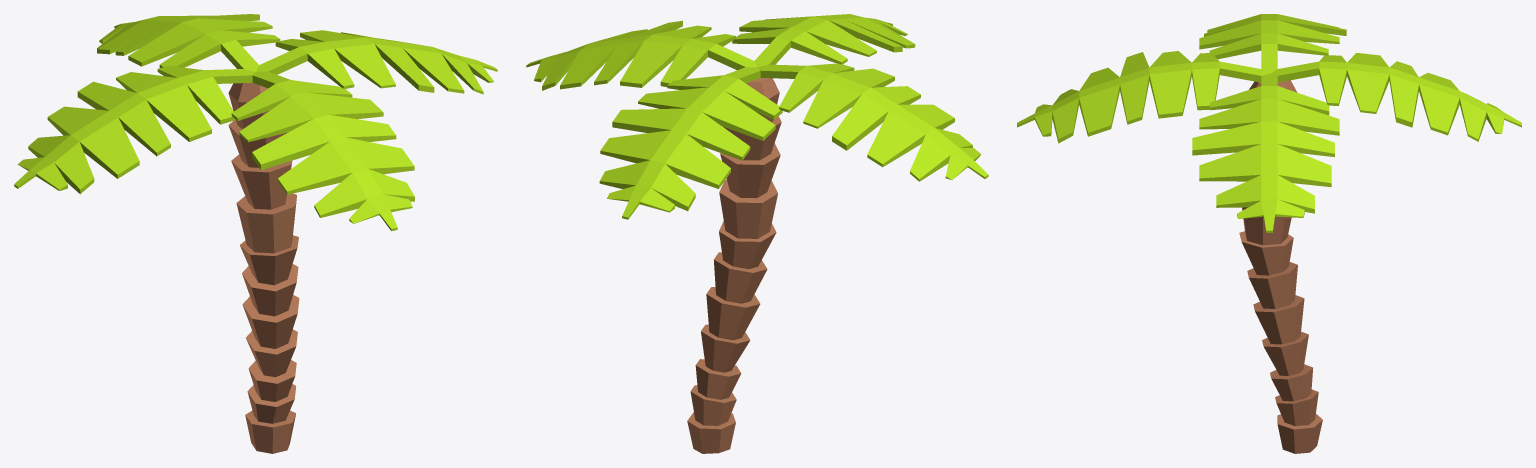
File: BigPalmTree.glb
The picture shows the model from 3 angles, left to right: view 1: azimuth 30°, elevation 25°; view 2: azimuth 150°, elevation 25°; view 3: azimuth 270°, elevation 25°; orthographic projection. The views are drawn at different scales.
Visible parts, largest first — view 1: BigPalmTree; view 2: BigPalmTree; view 3: BigPalmTree.
Boxes of the visible parts, x1,y1,x2,y2 form: BigPalmTree: (14,14,497,453); BigPalmTree: (526,14,988,453); BigPalmTree: (1017,14,1521,453).
Bounding box in the file's own units: 6.67 × 5.36 × 6.67.
Materials: 1 (1 with a texture image).
